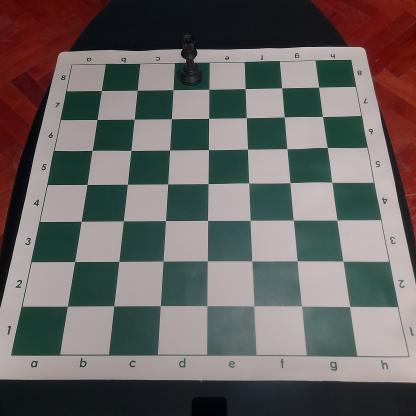black-queen: (177, 33, 203, 86)
